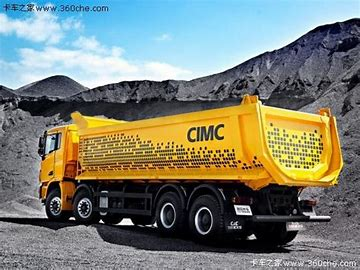bigtruck: (39, 104, 338, 244)
